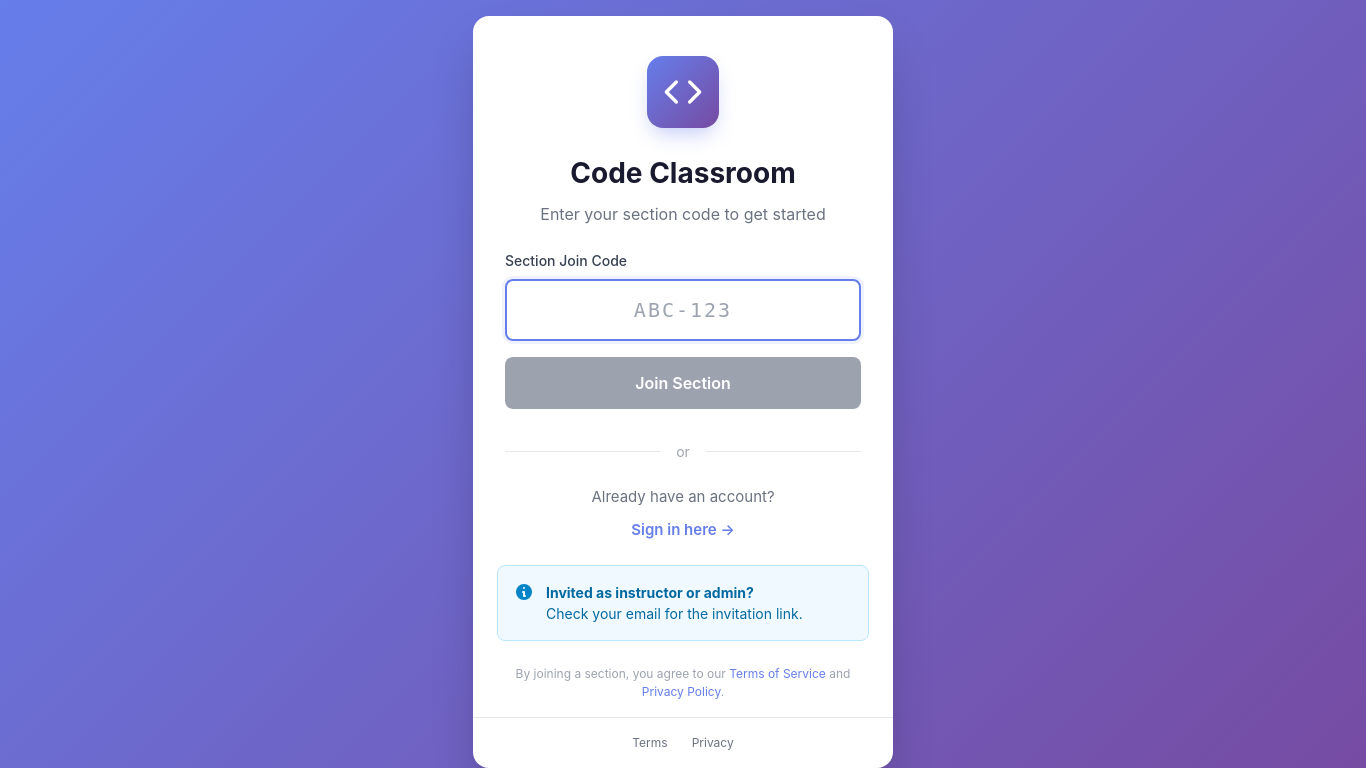
it: Landing Page › Join Code Input Formatting › limits input to 6 characters (formatted as XXX-XXX)
Step 1. Type "ABCDEFGHIJKLMNOP" into the field with placeholder "ABC-123" → [683, 310], box [505,279,861,341]
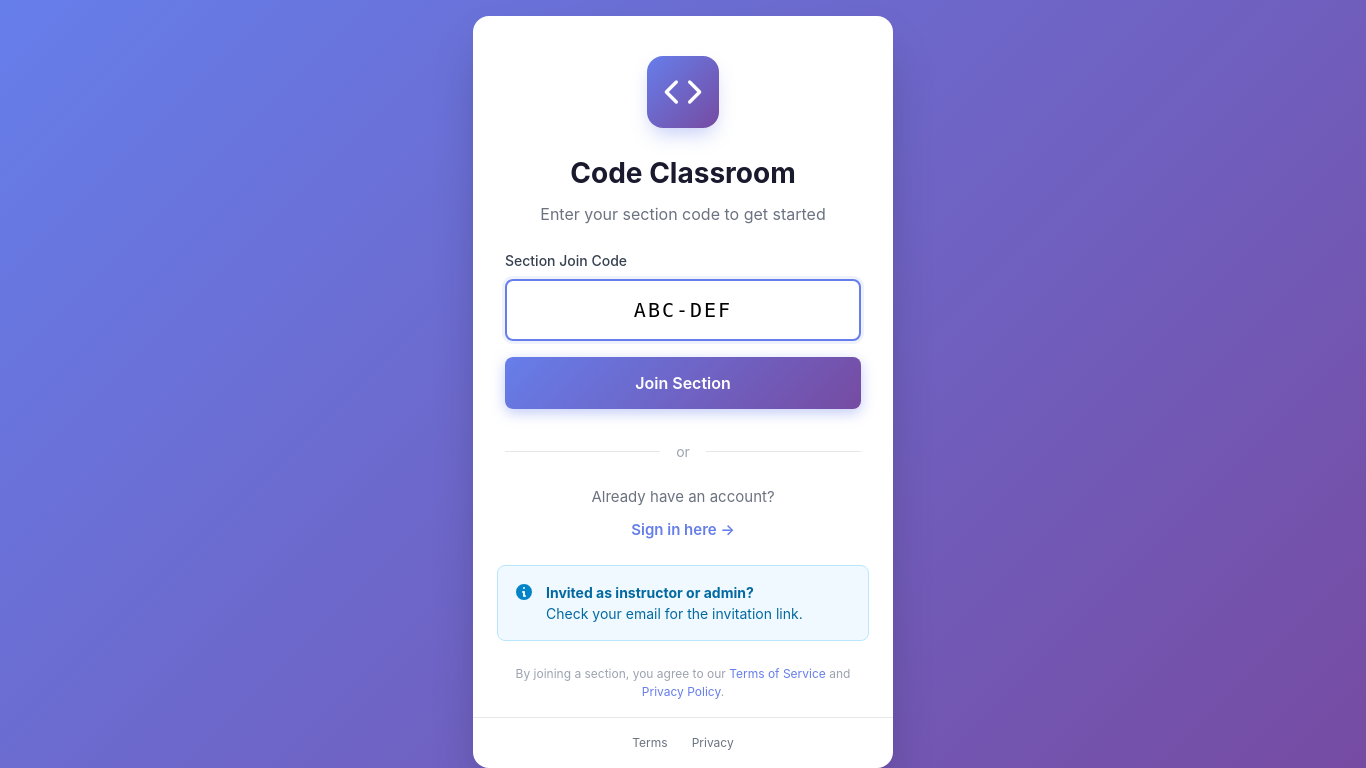
Expected: the field with placeholder "ABC-123" holds "ABC-DEF", [505,279,861,341]
